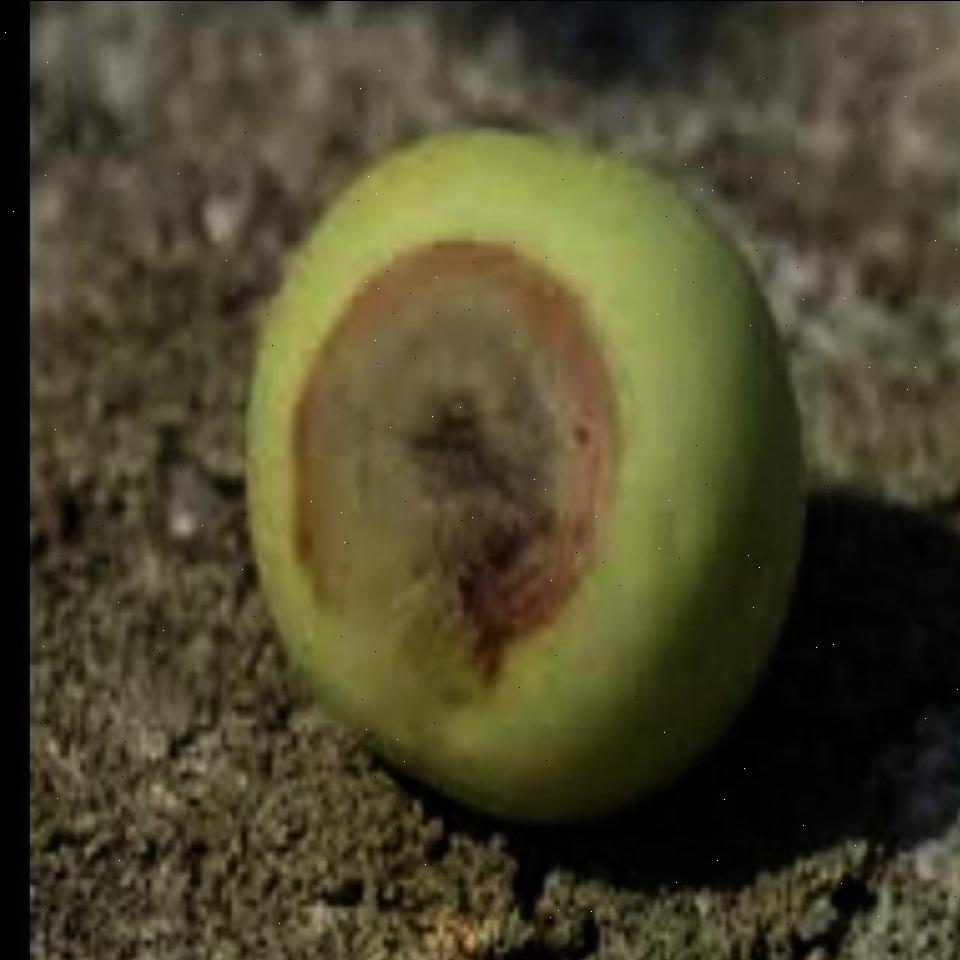Blossom_end_rot: (287, 232, 620, 696)
